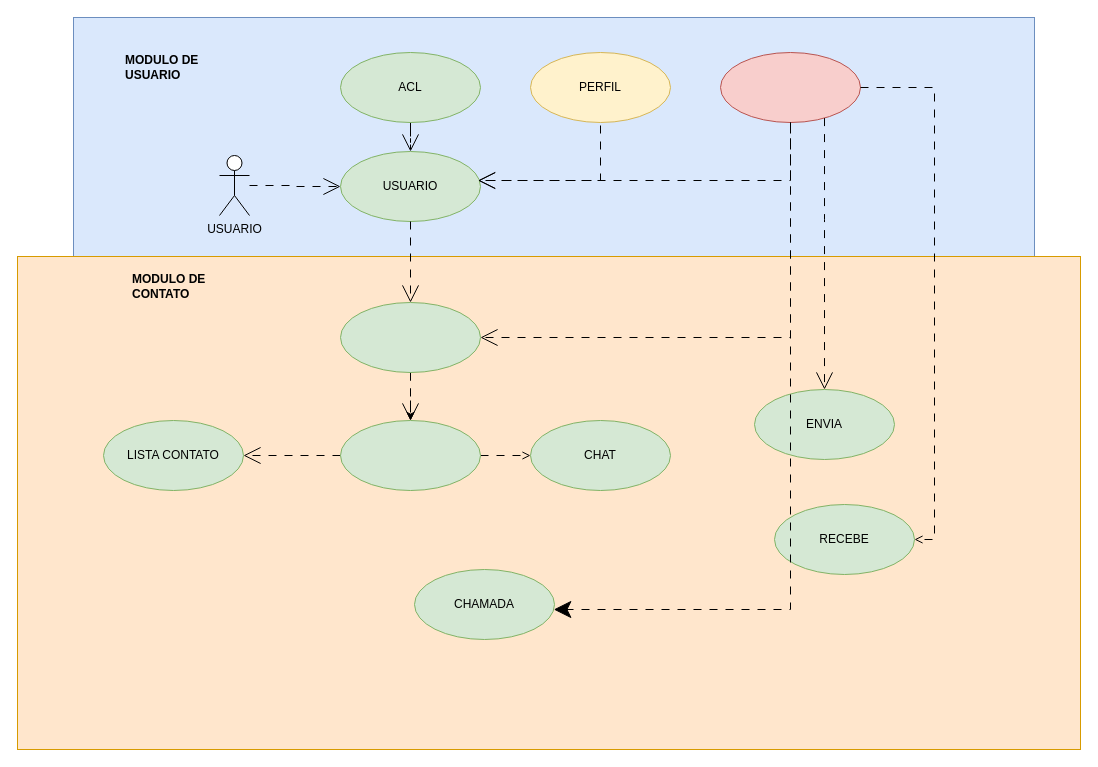
Image size: 1098x767. Some labels were removed from this diagram. The centre of each missing label's shape, as x and y in pixels:
"CONTATO" belongs at point 410,337.
"GRUPO" belongs at point 410,455.
"STATUS" belongs at point 790,87.
